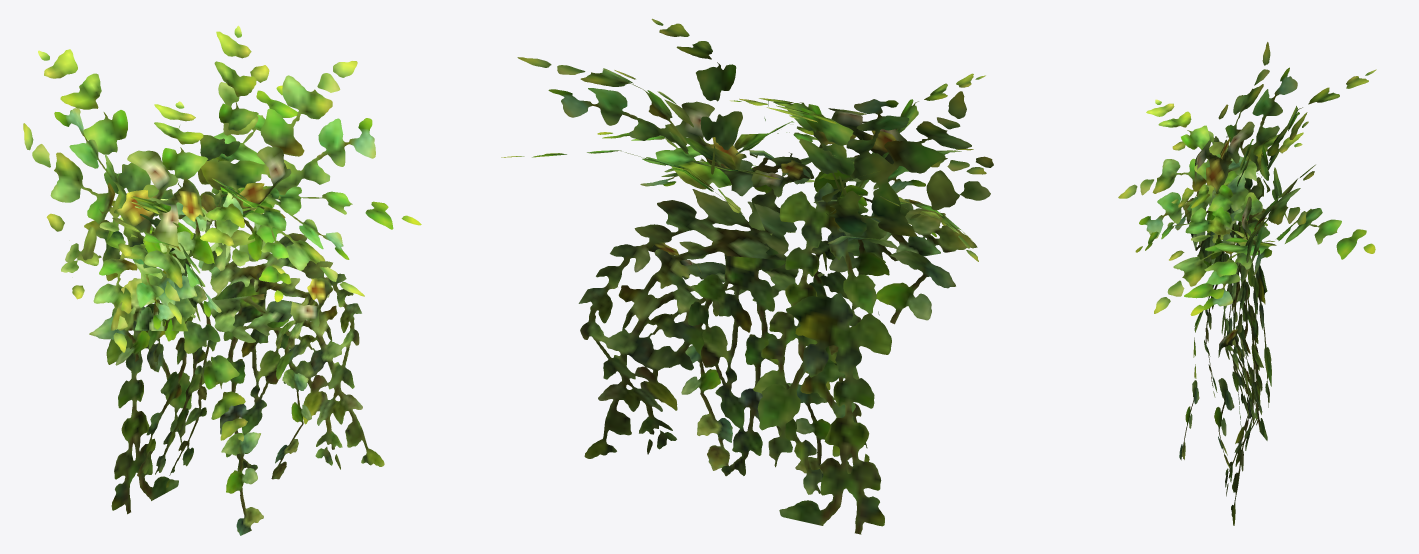
Rendered from S_Tree_Green037_A1.FBX.
3 renders of one model, left to right at view 1: azimuth 30°, elevation 25°; view 2: azimuth 150°, elevation 25°; view 3: azimuth 270°, elevation 25°, orthographic. The views are drawn at different scales.
Visible parts, largest first — view 1: S_Tree_Green037_A1; view 2: S_Tree_Green037_A1; view 3: S_Tree_Green037_A1.
Boxes of the visible parts, x1,y1,x2,y2 form: S_Tree_Green037_A1: (23,25,421,535); S_Tree_Green037_A1: (501,18,993,534); S_Tree_Green037_A1: (1118,42,1376,525).
Bounding box in the file's own units: 181 × 178 × 129.
